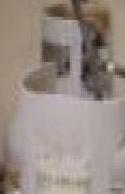cylinder: (1, 1, 125, 194)
